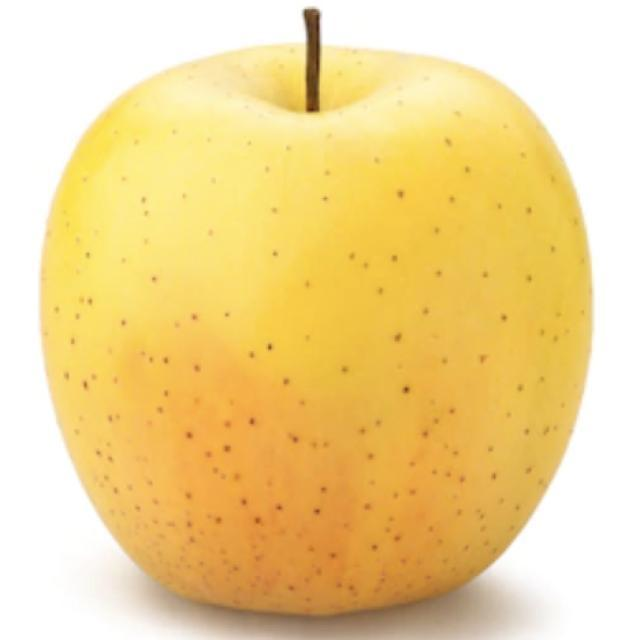Apple: (39, 7, 594, 618)
